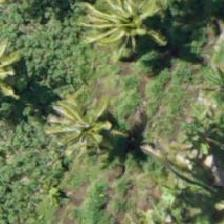coconut_tree: (55, 85, 145, 175)
